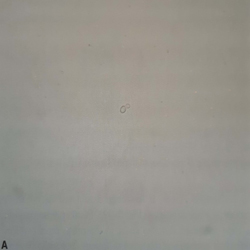Yeast: (118, 99, 134, 117)
